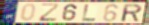0: (20, 3, 38, 22)
6: (102, 3, 121, 23), (61, 3, 78, 22)
L: (81, 4, 98, 22)
R: (122, 3, 144, 22)
Z: (38, 3, 61, 22)
